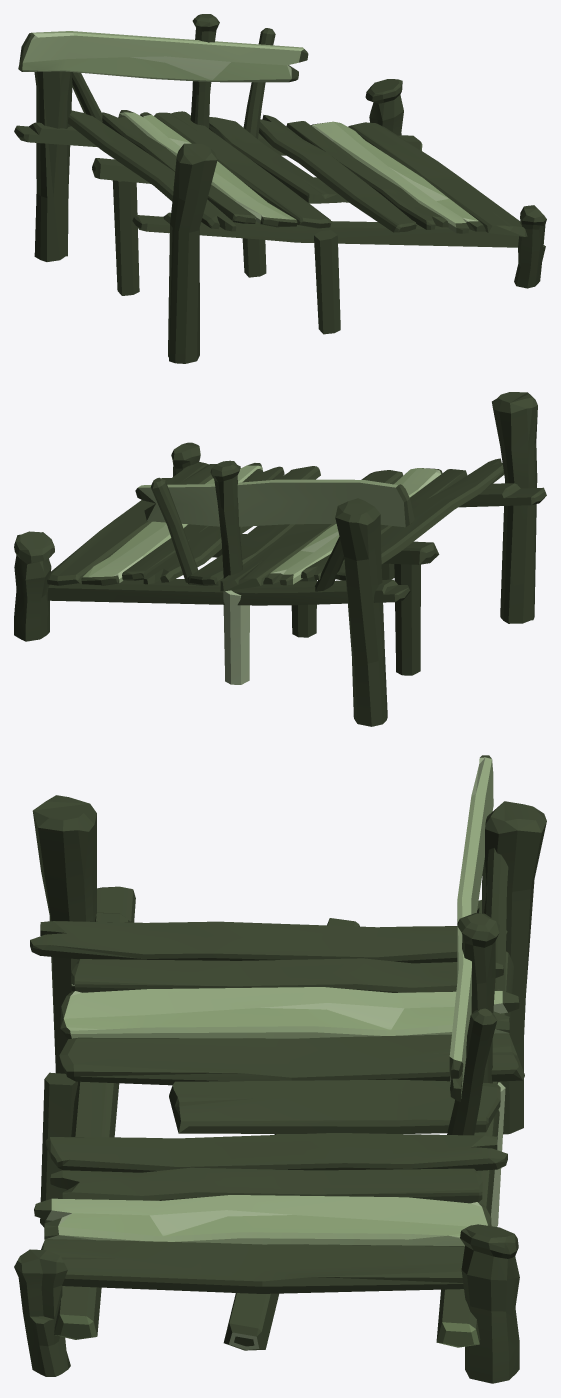
Rendered from EA_Pier1_end.glb.
The picture shows the model from 3 angles, top to bottom: view 1: azimuth 30°, elevation 25°; view 2: azimuth 150°, elevation 25°; view 3: azimuth 270°, elevation 25°; orthographic projection. The views are drawn at different scales.
Visible parts, largest first — view 1: EA_Pier1_end; view 2: EA_Pier1_end; view 3: EA_Pier1_end.
Part boxes in pixels (x1,y1,x2,y2): EA_Pier1_end: [14, 14, 546, 363]; EA_Pier1_end: [14, 392, 546, 726]; EA_Pier1_end: [14, 755, 546, 1383].
Size of the model in its own units: 3.03 by 1.68 by 2.32.
1 material, 1 textured.
